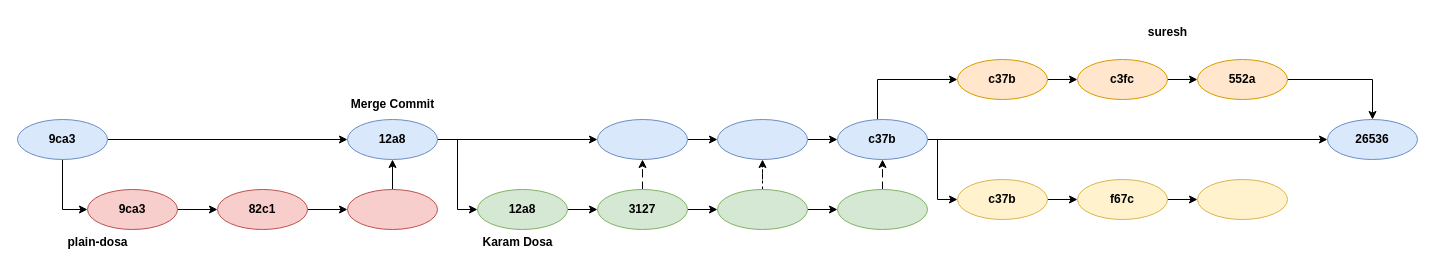
This 1435x274 diagram has some shape labels left out. The shapes that lost their labels are listed below. From the top down, each one's centre as x and y in pixels, then its label:
At point (642, 139): "d1ff".
At point (762, 139): "5bbe".
At point (392, 209): "b3d81".
At point (762, 209): "57ec".
At point (882, 209): "8e12".
At point (1242, 199): "9d04".
